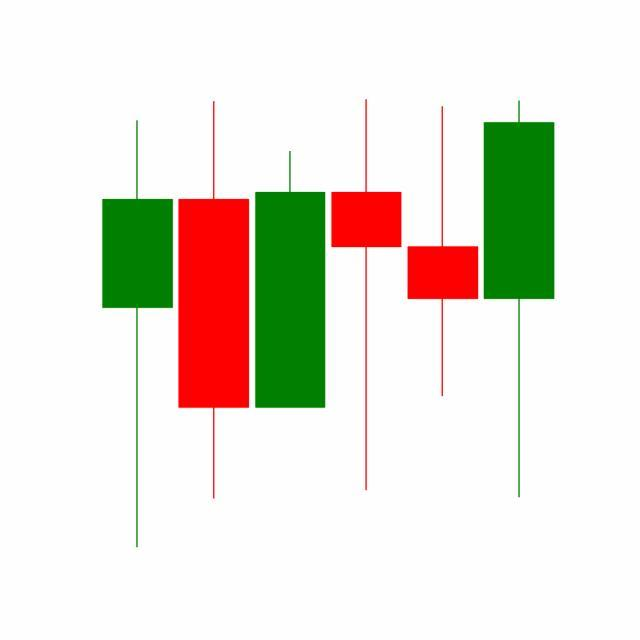Spinning Top: (404, 104, 482, 401)
